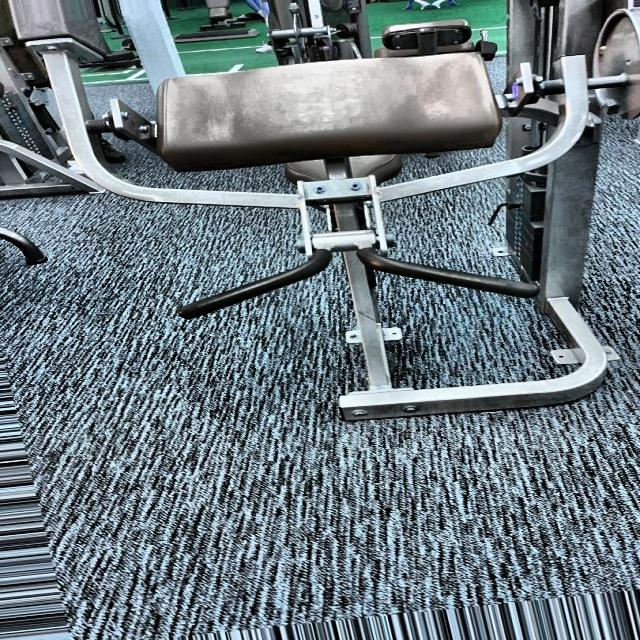bicep_curl_machine: (24, 30, 626, 444)
